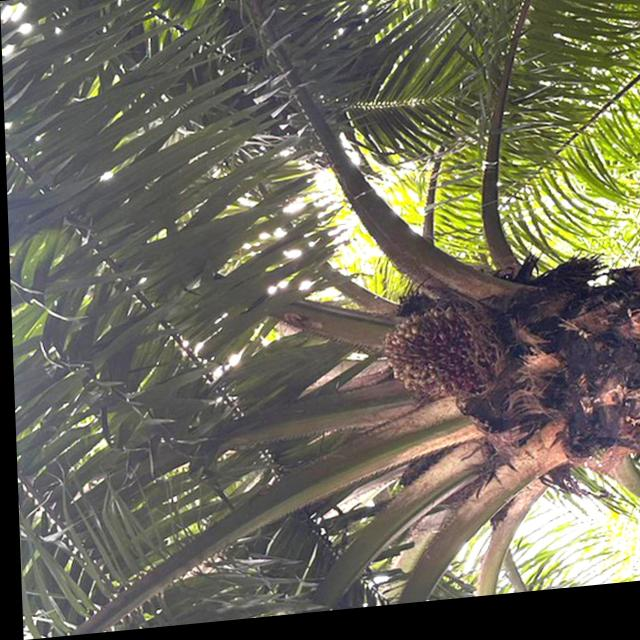ripe: (376, 301, 505, 416)
